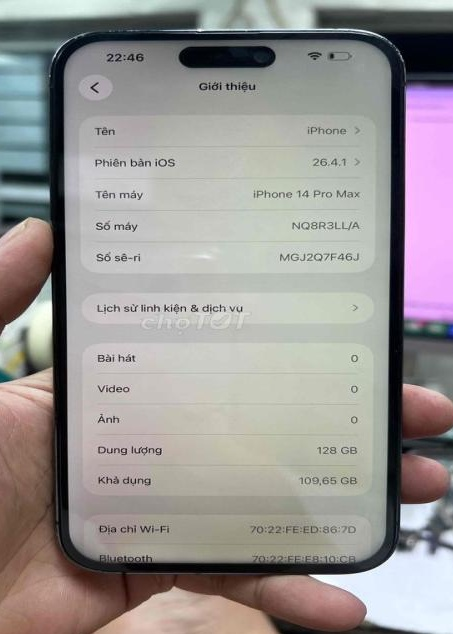scratch: (21, 17, 274, 54)
